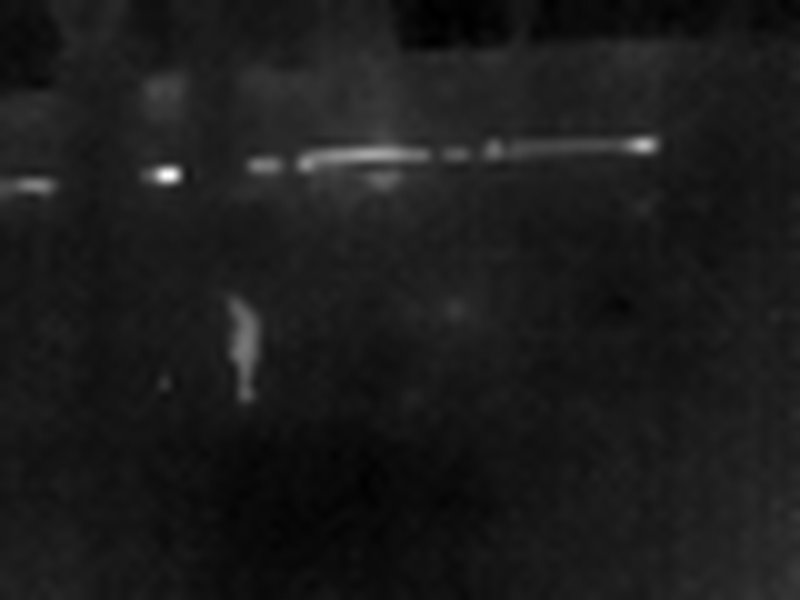elephant: (151, 294, 288, 417)
